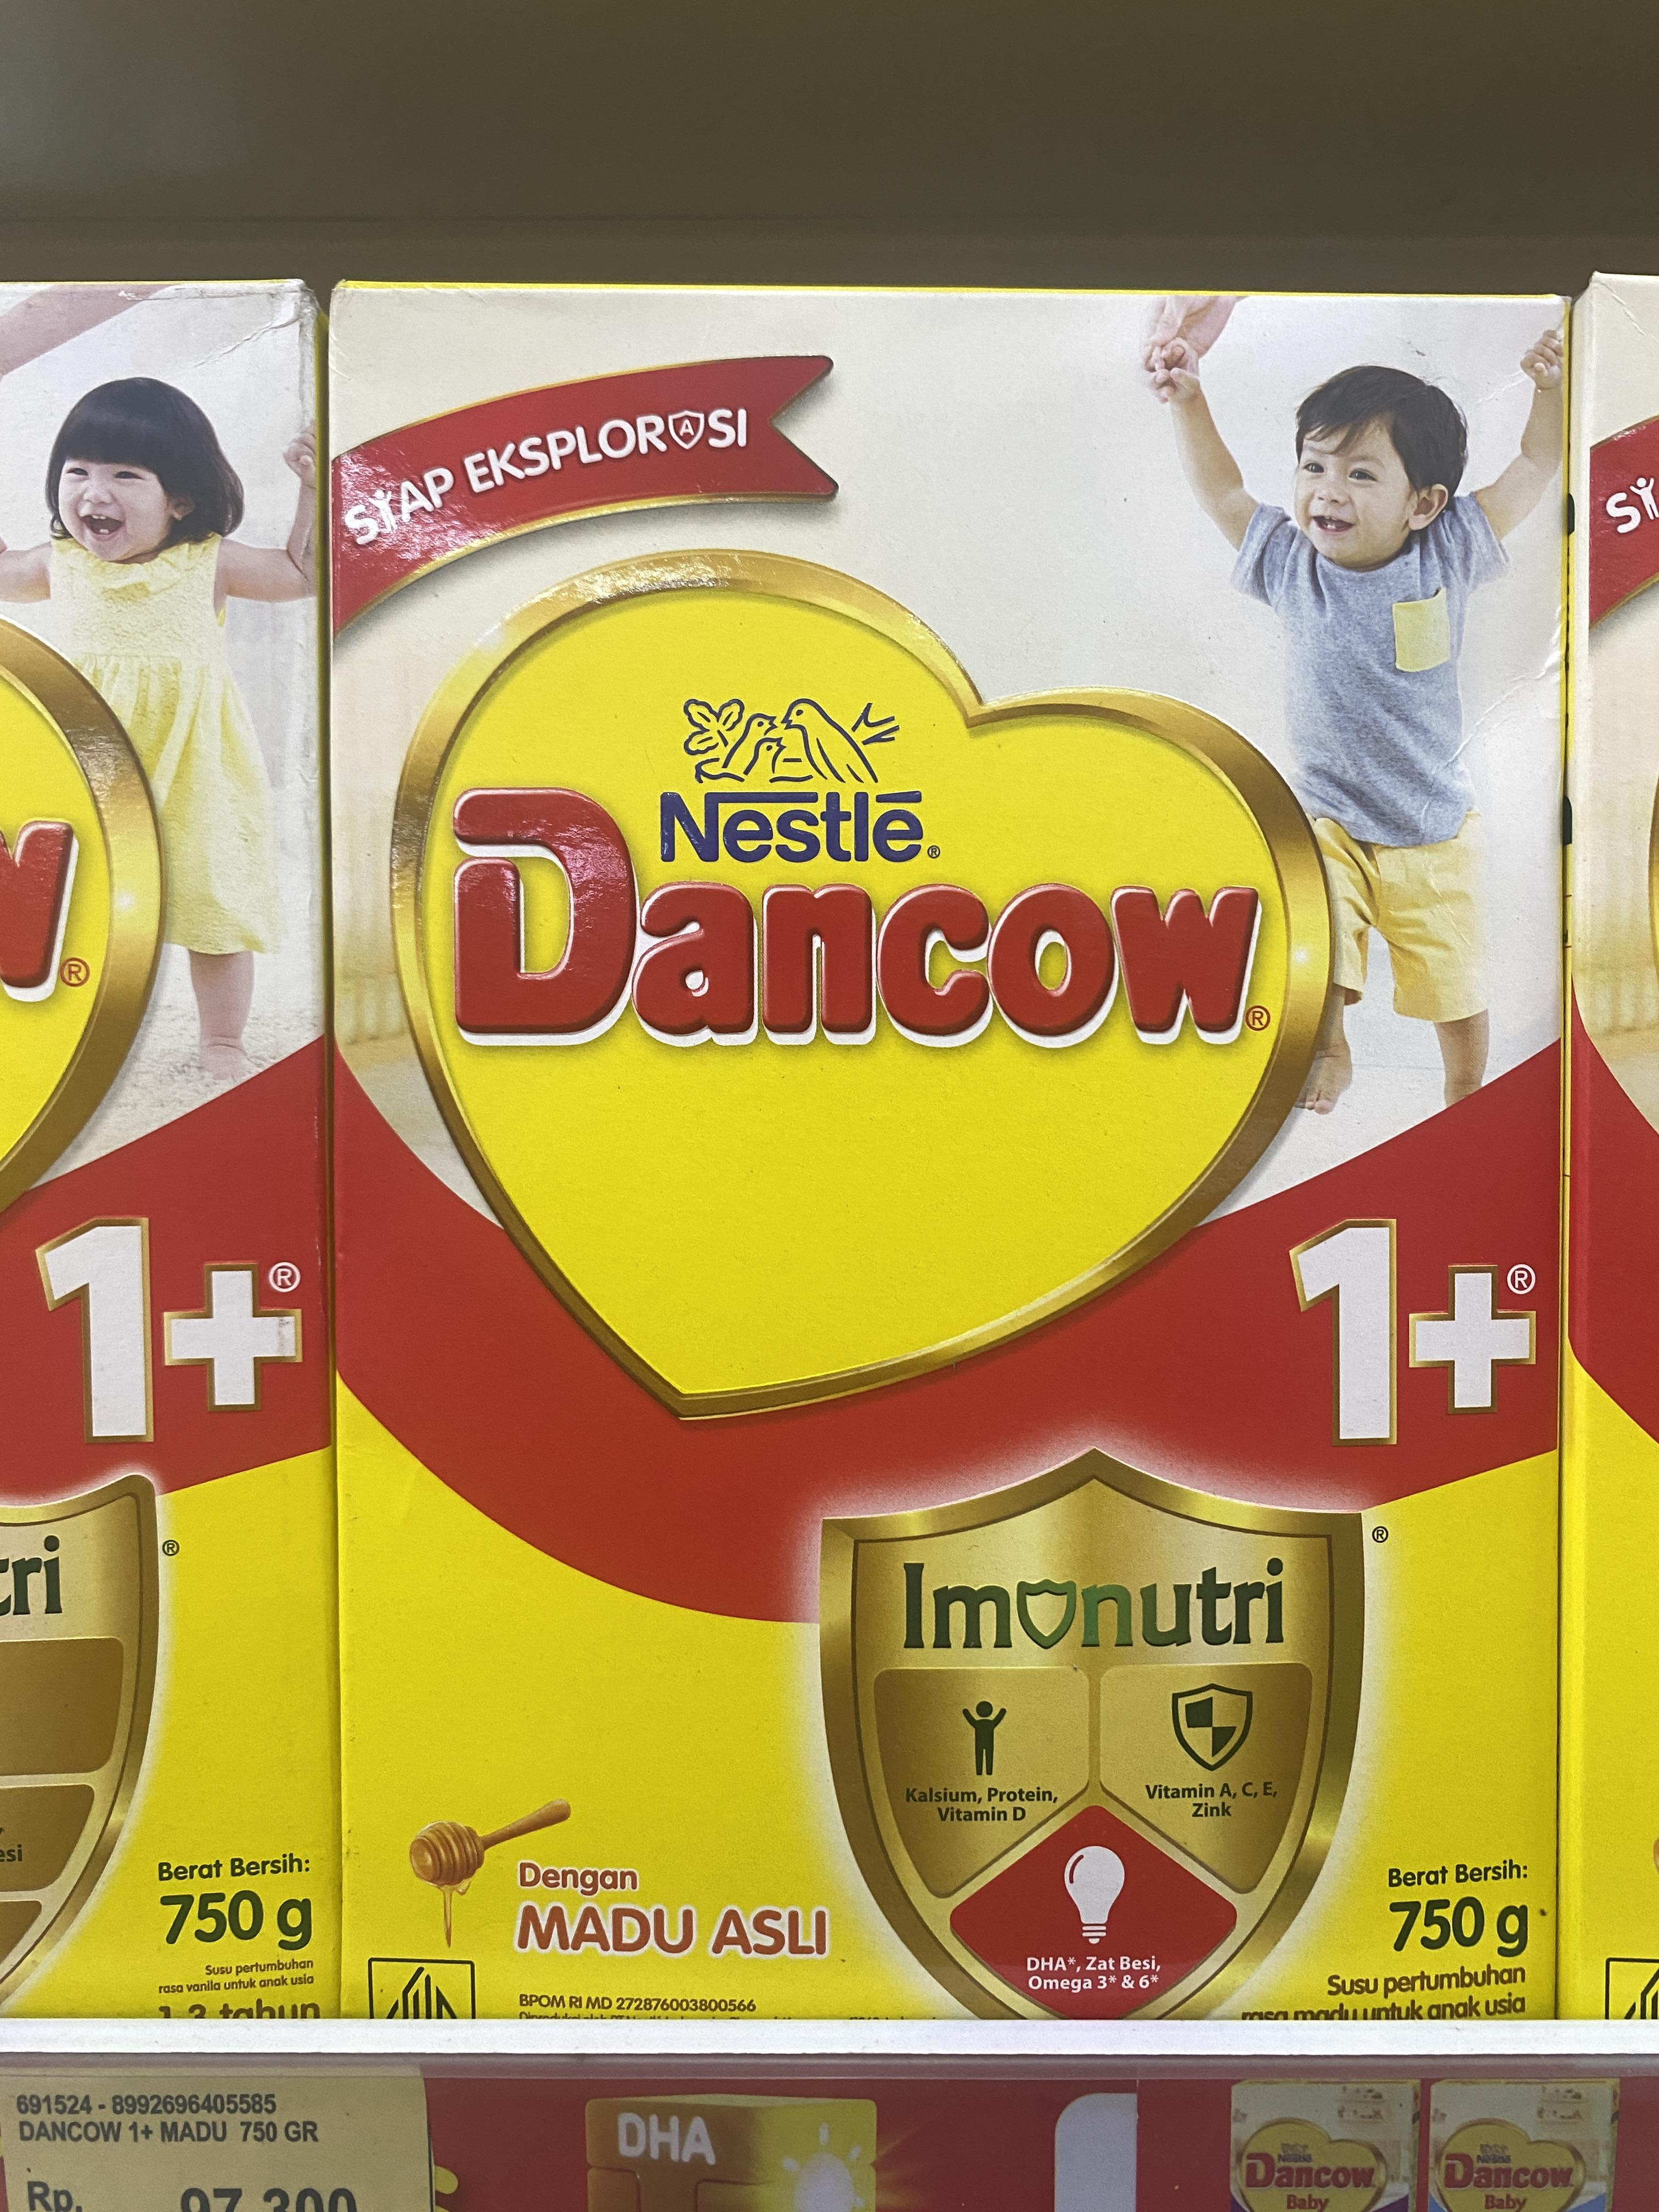DANCOW 1+ Van Advn ExcNutr 12x800g N1 ID_REDESIGN3: (329, 298, 1581, 2038)
